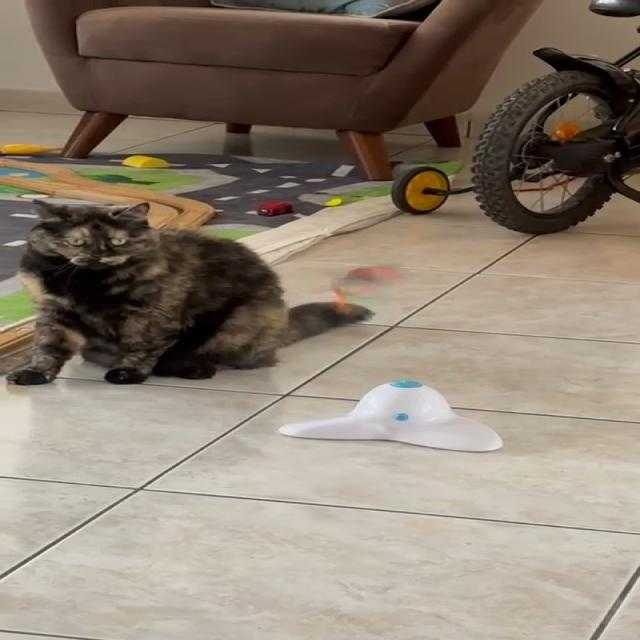authorized: (7, 199, 374, 385)
